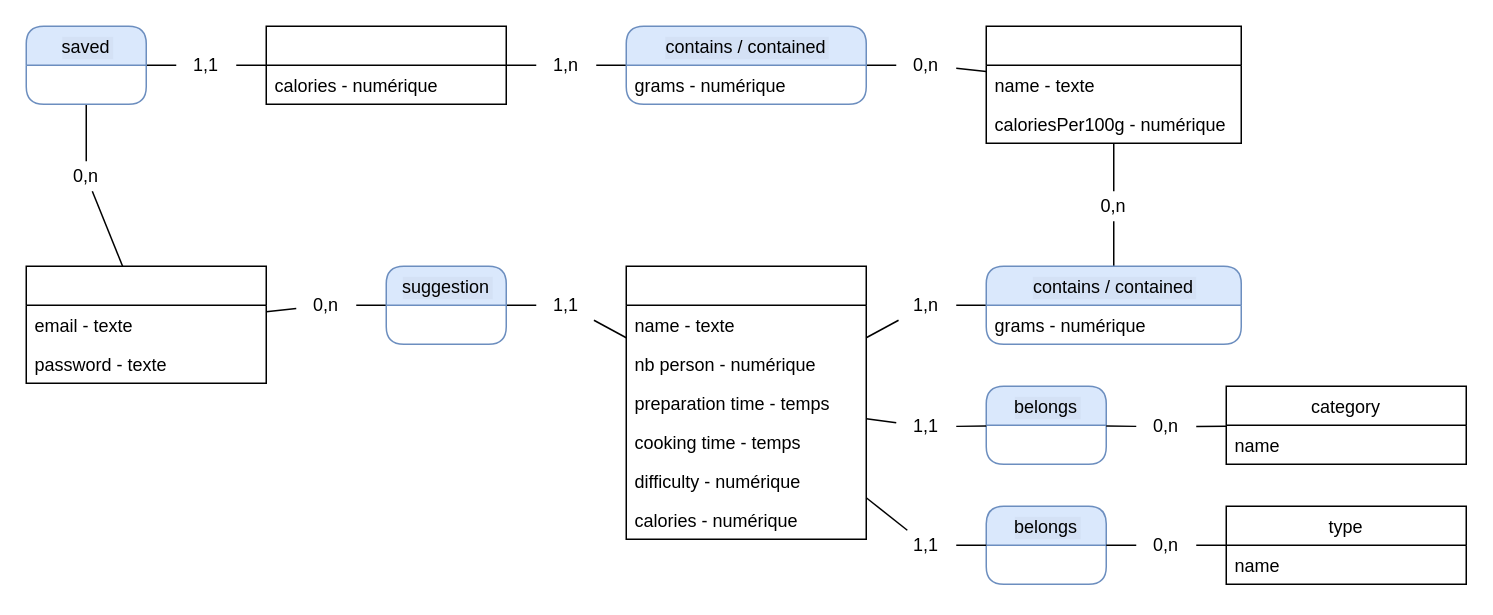
This 1493x615 diagram has some shape labels left out. The box of each missing label's shape, as (x1, y1, x2, y2) in pixels:
dish: (625, 265, 866, 539)
ingredient: (985, 25, 1241, 143)
result: (265, 25, 506, 104)
user: (25, 265, 266, 383)
